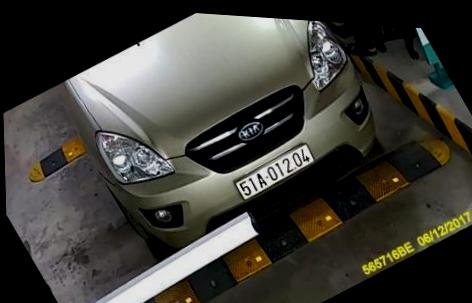License_Plate: (220, 134, 332, 210)
